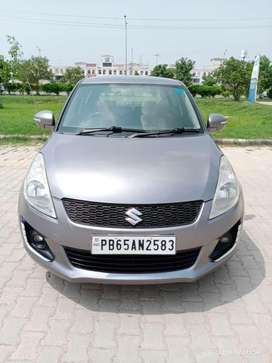PB65AN2583: (91, 235, 176, 254)
